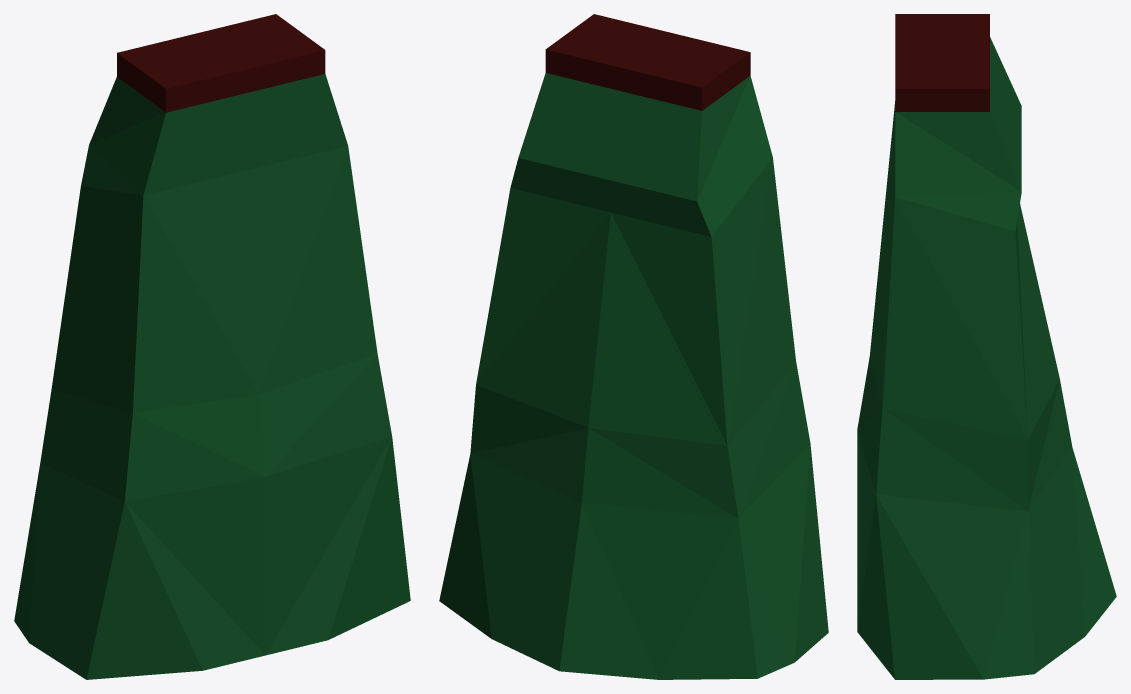
The model's file is model_428_idk.obj.
3 renders of one model, left to right at view 1: azimuth 30°, elevation 25°; view 2: azimuth 150°, elevation 25°; view 3: azimuth 270°, elevation 25°, orthographic. The views are drawn at different scales.
Parts seen in each view (by area): view 1: 428; view 2: 428; view 3: 428.
Part boxes in pixels (x1=…): 428: x1=14, y1=14, x2=410, y2=679; 428: x1=439, y1=14, x2=828, y2=679; 428: x1=857, y1=14, x2=1116, y2=679.
Size of the model in its own units: 61 by 96 by 41.
